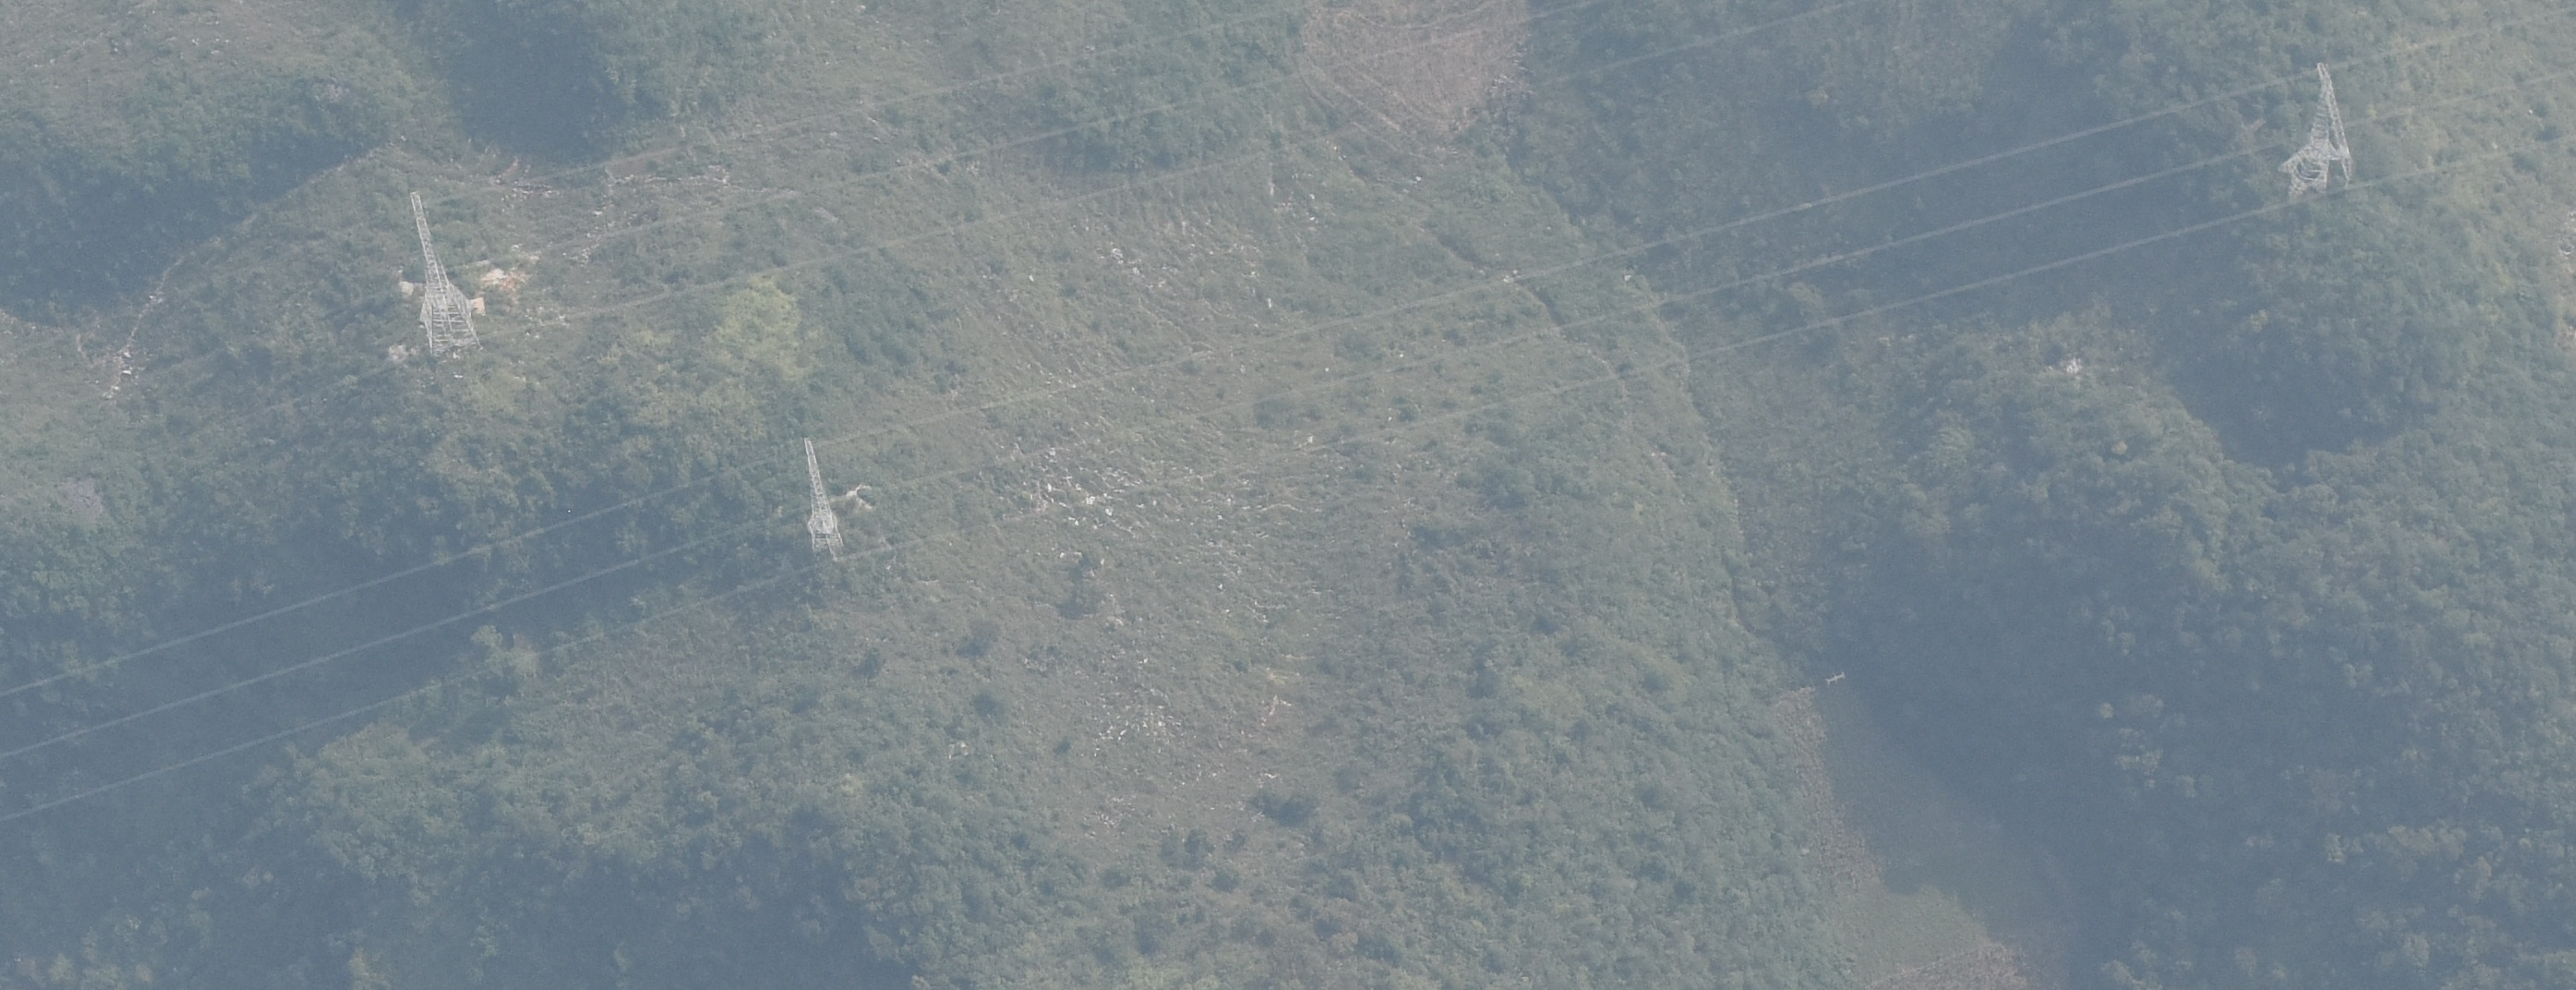cable-tower: (399, 181, 491, 363), (2275, 49, 2364, 206), (792, 418, 848, 571)
